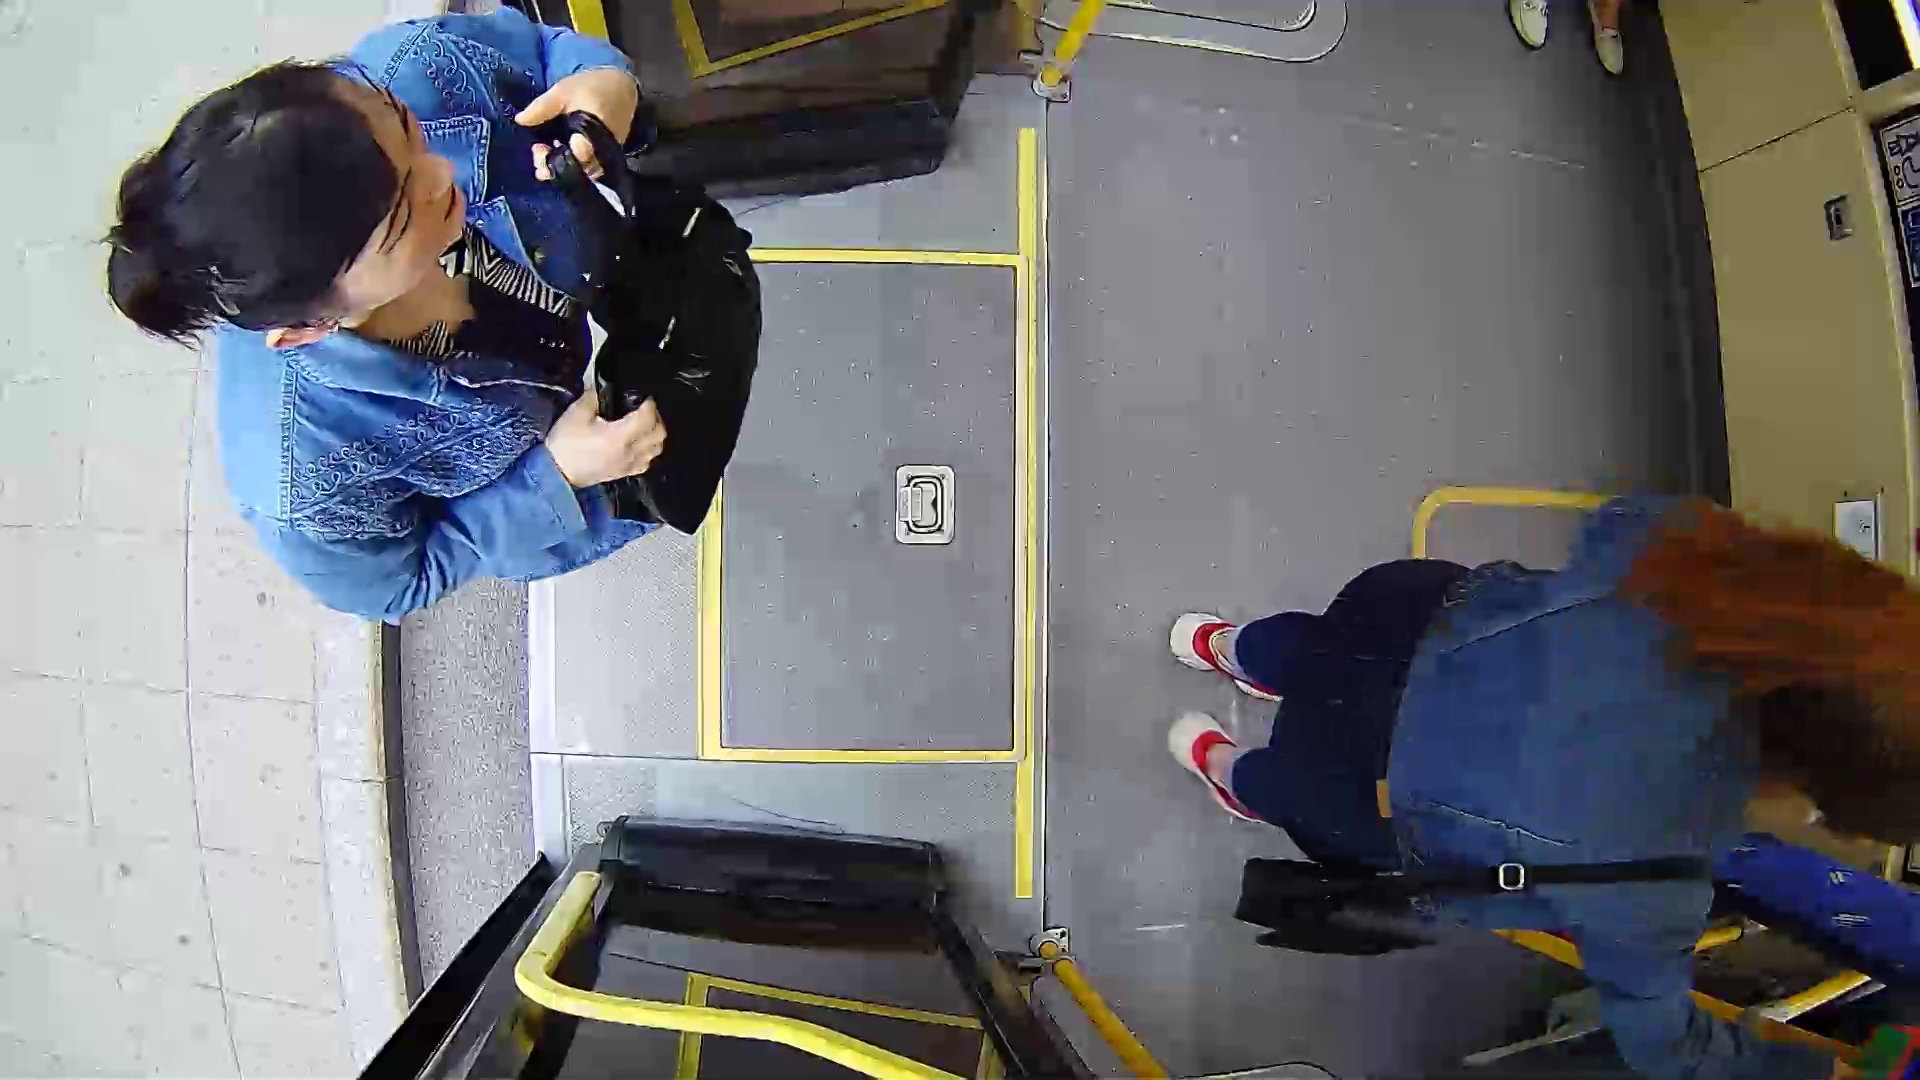person: (1109, 435, 1911, 974), (102, 37, 819, 603)
